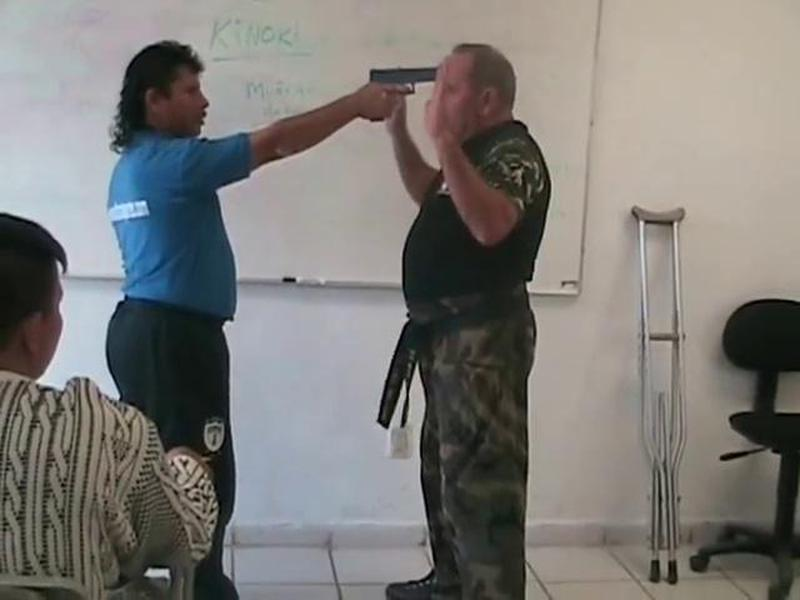Pistola: (365, 61, 443, 101)
